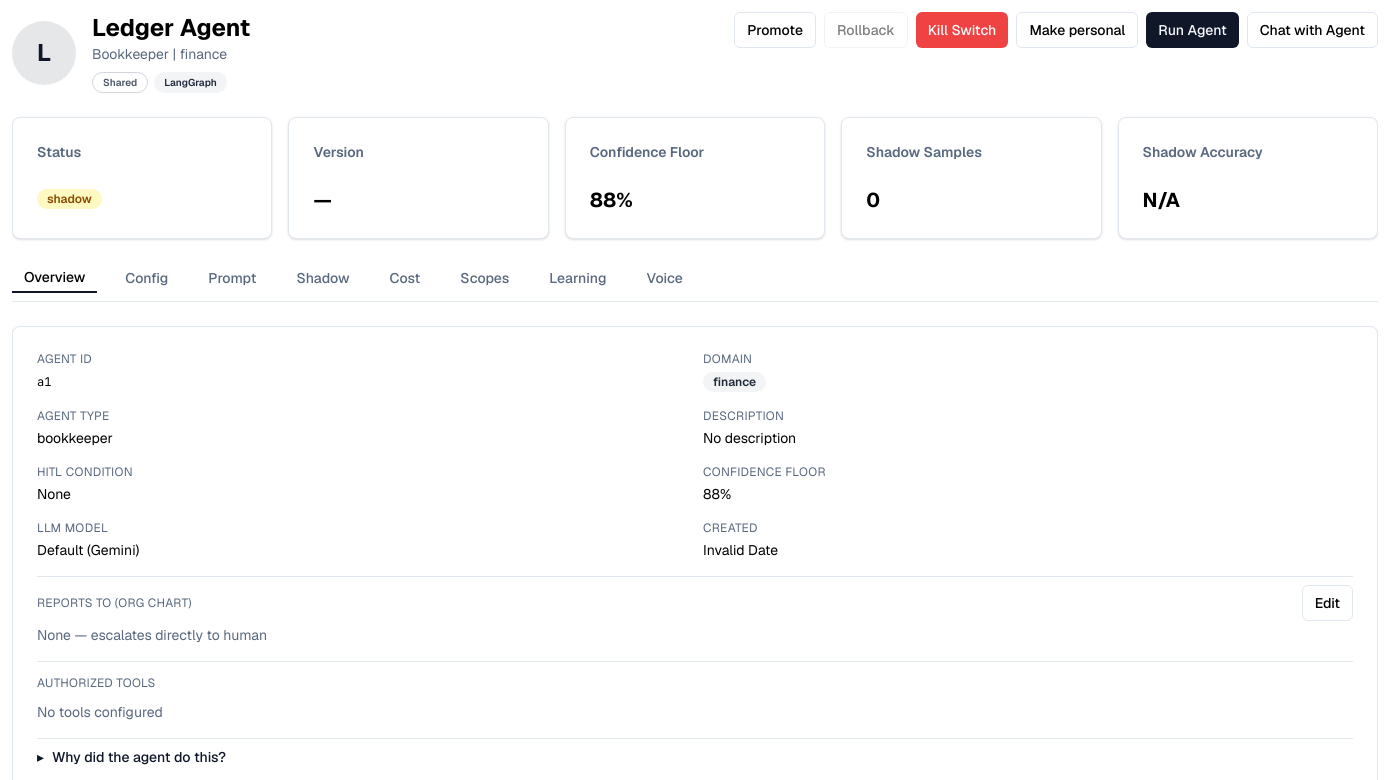
Test case: AgentDetail feedback + amendments contract › A3: a failed DELETE keeps the row and shows an error
expect the heading "Ledger Agent" is shown: met, box [92,12,250,44]
Click the button "learning".
click(578, 278)  # box [537,263,618,293]
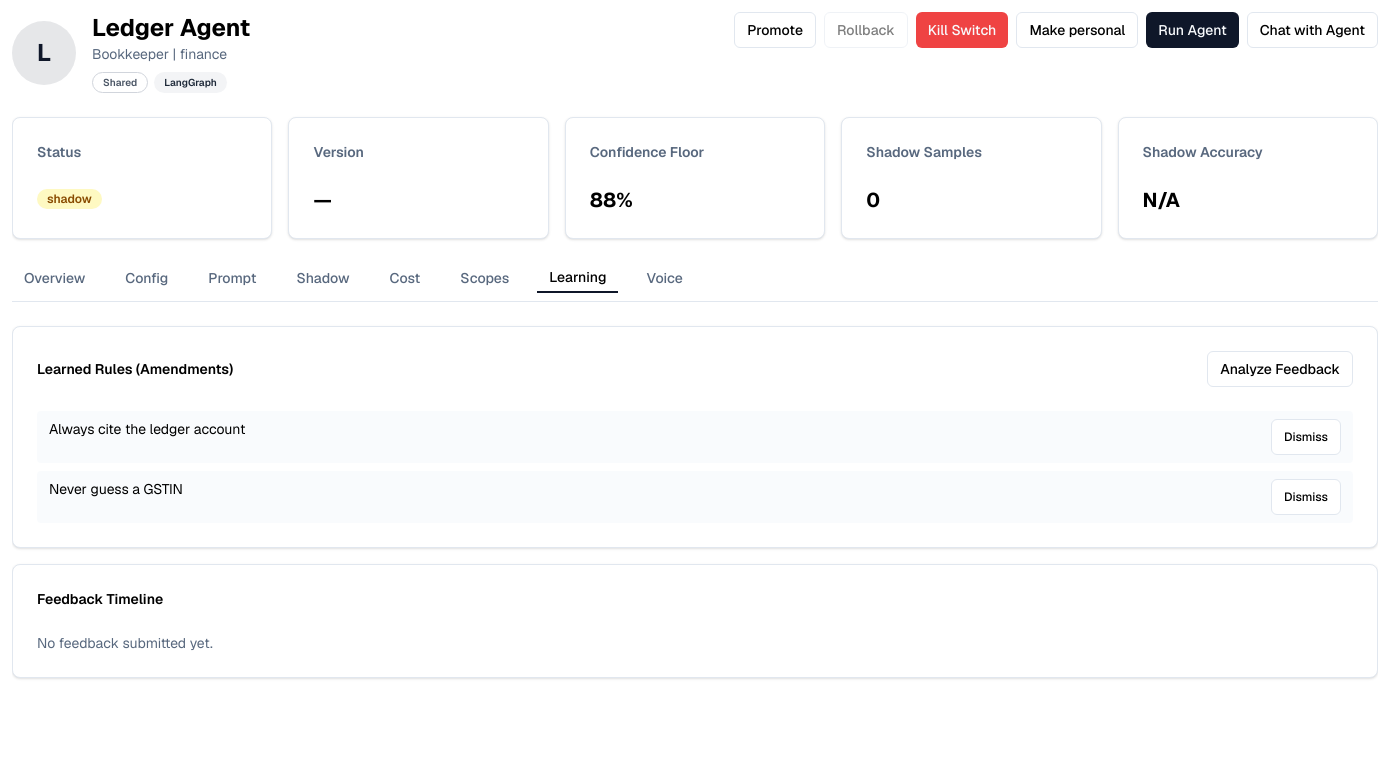
expect the text "Never guess a GSTIN" is shown: met, box [49,480,183,498]
Click the button "Dismiss" in the row of "Always cite the ledger account".
click(1306, 437)  # box [1271,419,1341,455]
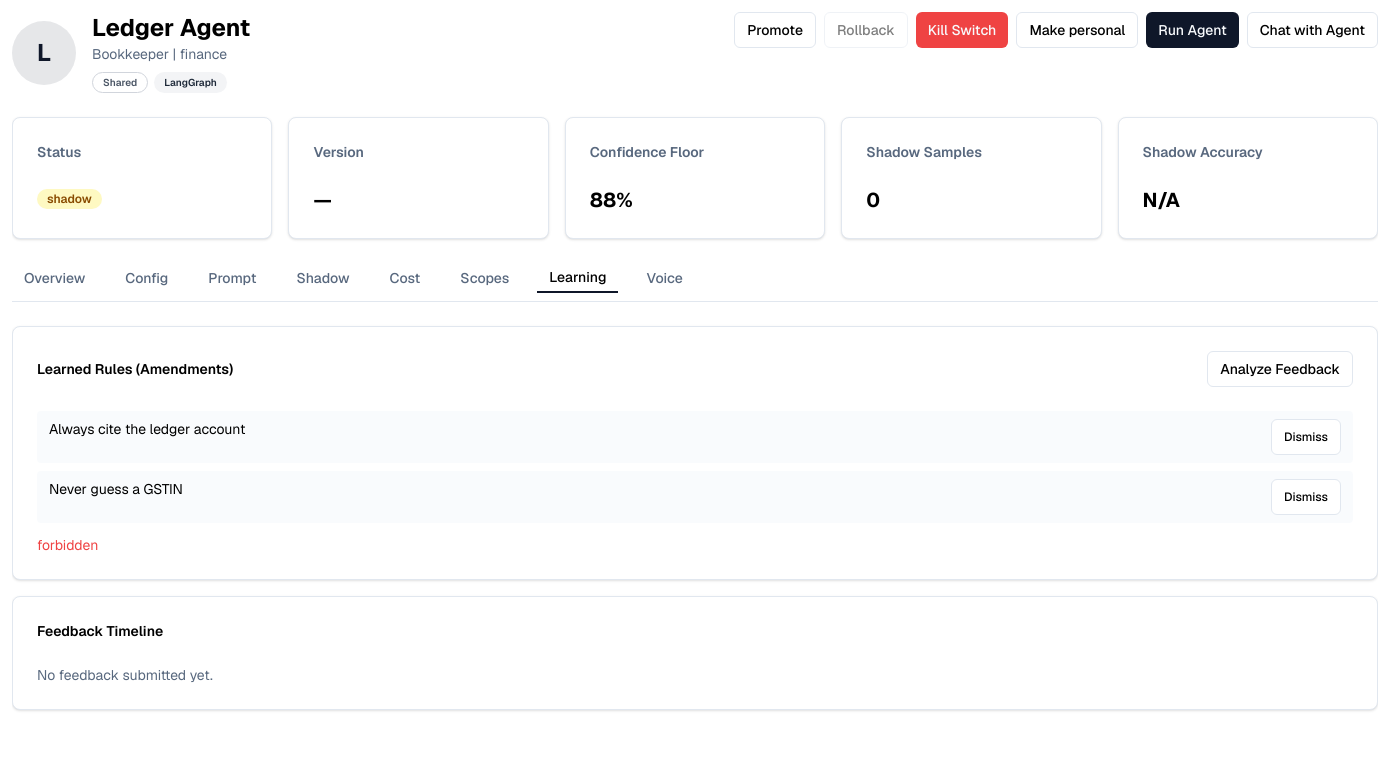
expect the text "Always cite the ledger account" is shown: met, box [49,420,245,438]
expect the text "forbidden" is shown: met, box [37,536,98,554]
